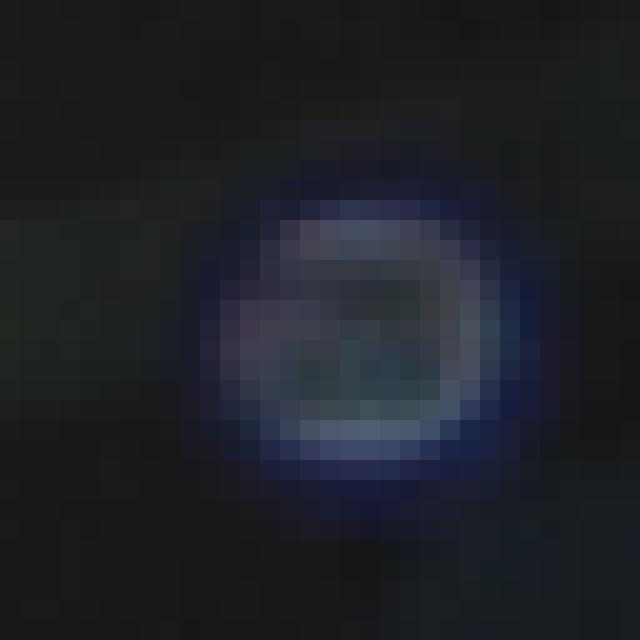SPEED LIMIT 120: (202, 175, 540, 483)
